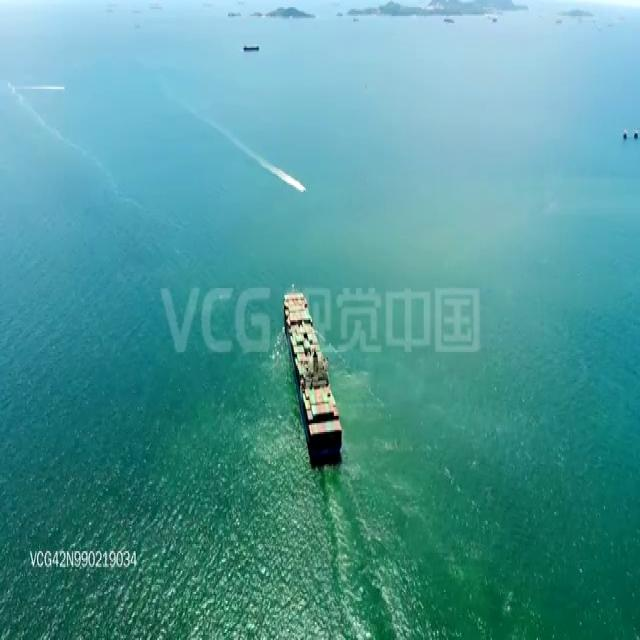cargoship: (282, 286, 347, 461)
